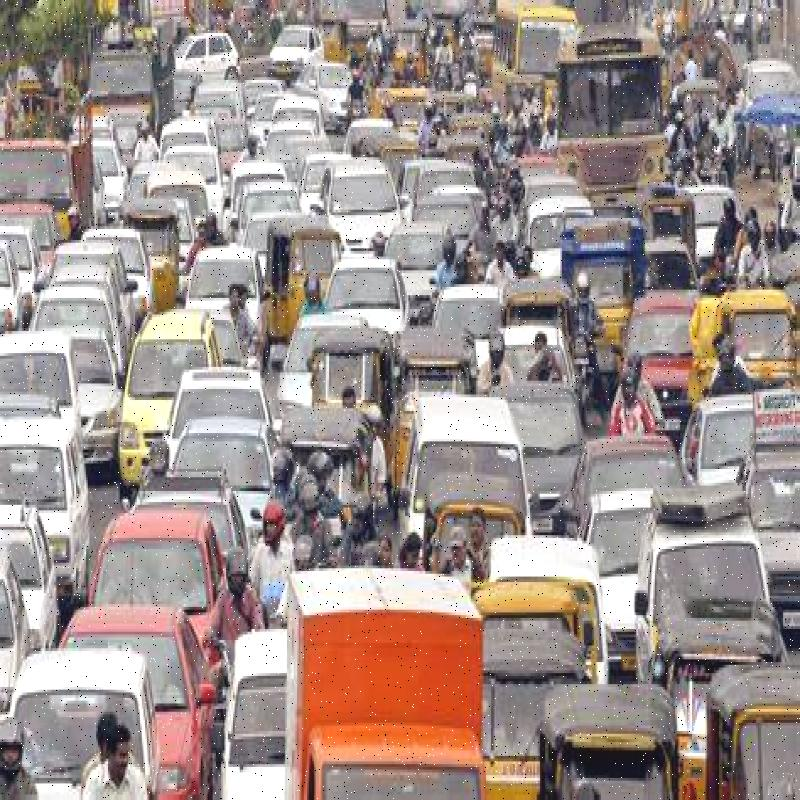car: (71, 585, 223, 800), (478, 516, 618, 731), (394, 399, 540, 582), (162, 402, 292, 592), (0, 645, 158, 800), (100, 512, 240, 686), (640, 526, 766, 693), (117, 290, 242, 458), (0, 293, 92, 495), (264, 310, 374, 448), (0, 434, 79, 598), (0, 457, 54, 648)
